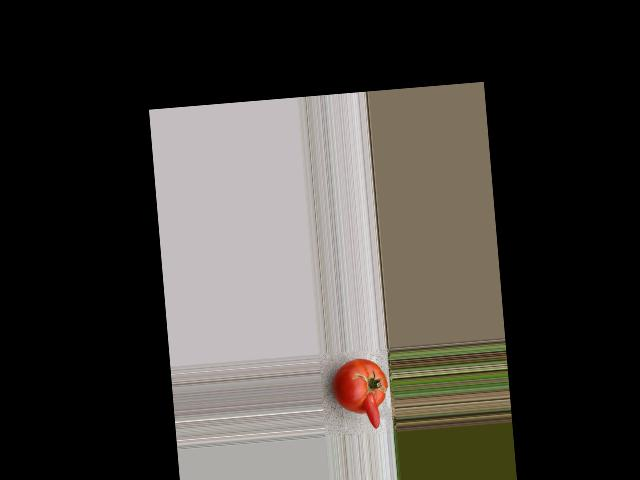tomato: (332, 355, 389, 415)
